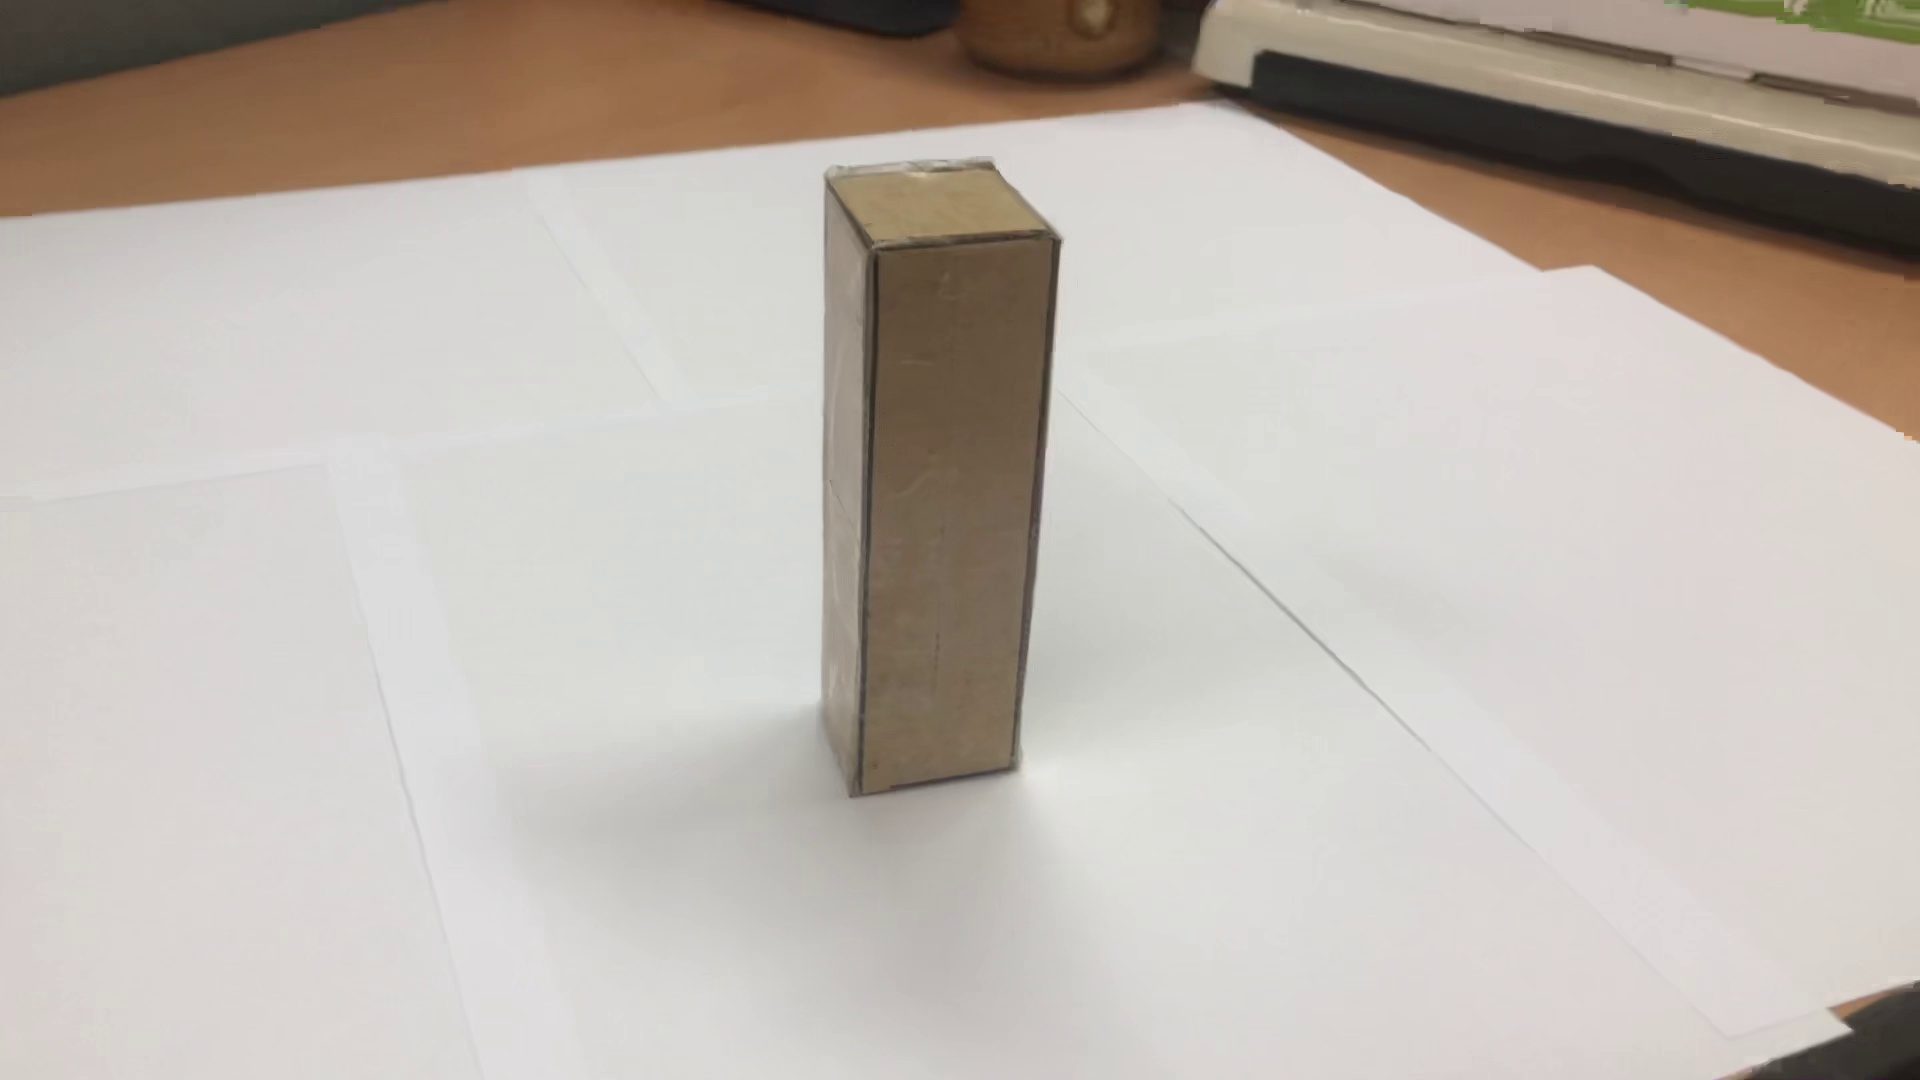box: (793, 152, 1080, 806)
